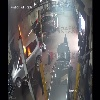fire: (17, 25, 33, 57)
